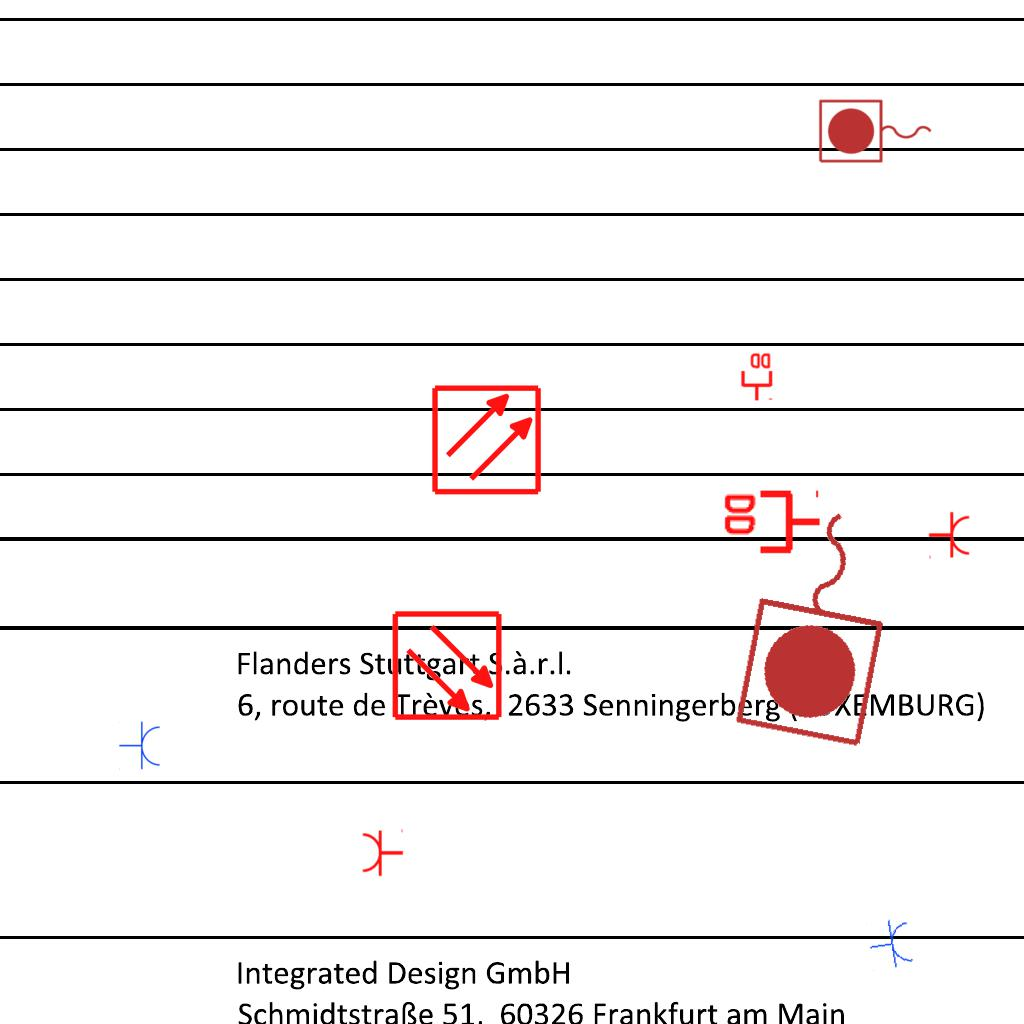Datenanschluss_zweifach: (720, 489, 823, 558), (739, 351, 773, 402)
RMO_Rauchmelder_optischer: (430, 383, 543, 496), (391, 609, 504, 722)
Schukosteckdose_einfach: (865, 916, 917, 973), (361, 827, 404, 877), (928, 511, 971, 561), (119, 721, 162, 771)
Zugtaster: (727, 489, 915, 757), (815, 96, 937, 168)
